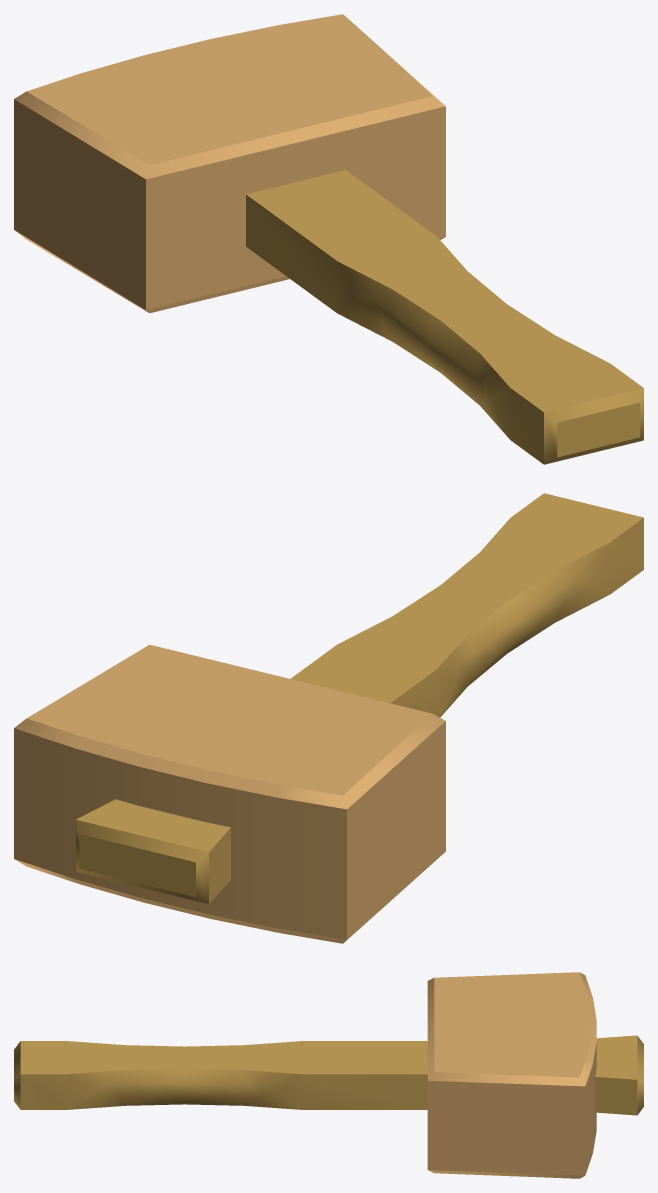
File: mallet_02_origin.dae
3 renders of one model, top to bottom at view 1: azimuth 30°, elevation 25°; view 2: azimuth 150°, elevation 25°; view 3: azimuth 270°, elevation 25°, orthographic. The views are drawn at different scales.
Visible parts, largest first — view 1: Head, Handle; view 2: Head, Handle, Component_3; view 3: Head, Handle, Component_3.
Boxes of the visible parts, x1=… form: Head: x1=14, y1=14, x2=445, y2=313; Handle: x1=246, y1=170, x2=643, y2=464; Head: x1=14, y1=644, x2=445, y2=943; Handle: x1=290, y1=493, x2=643, y2=717; Component_3: x1=76, y1=799, x2=230, y2=904; Head: x1=427, y1=972, x2=596, y2=1178; Handle: x1=14, y1=1041, x2=427, y2=1109; Component_3: x1=595, y1=1035, x2=643, y2=1115.
Size of the model in its own units: 5 by 11.99 by 2.13.
